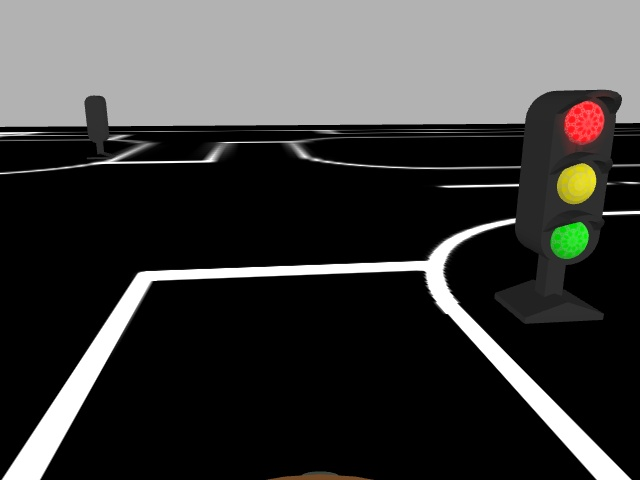red_light: (537, 88, 620, 265)
